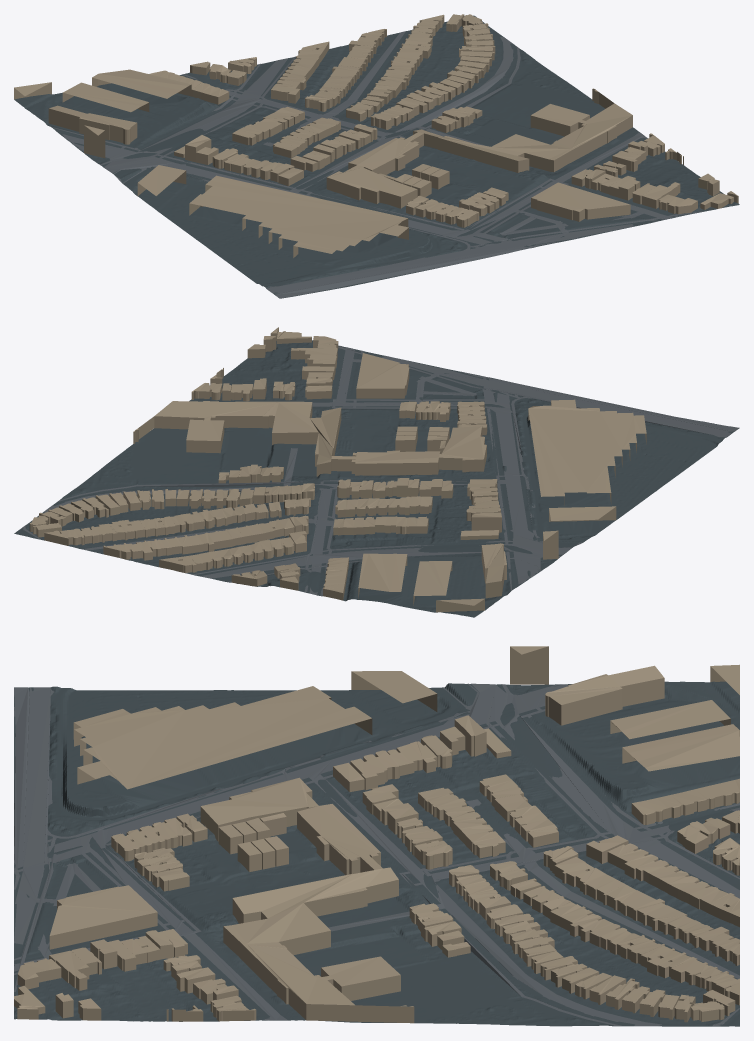
The model's file is epsg26910-1429-10872.lod0.glb.
3 renders of one model, top to bottom at view 1: azimuth 30°, elevation 25°; view 2: azimuth 150°, elevation 25°; view 3: azimuth 270°, elevation 25°, orthographic. The views are drawn at different scales.
Parts seen in each view (by area): view 1: epsg26910-1429-10872-lod0; view 2: epsg26910-1429-10872-lod0; view 3: epsg26910-1429-10872-lod0.
Boxes of the visible parts, x1,y1,x2,y2 form: epsg26910-1429-10872-lod0: (14, 14, 739, 298); epsg26910-1429-10872-lod0: (14, 327, 739, 617); epsg26910-1429-10872-lod0: (14, 646, 739, 1026).
Bounding box in the file's own units: 384 × 43.06 × 384.
